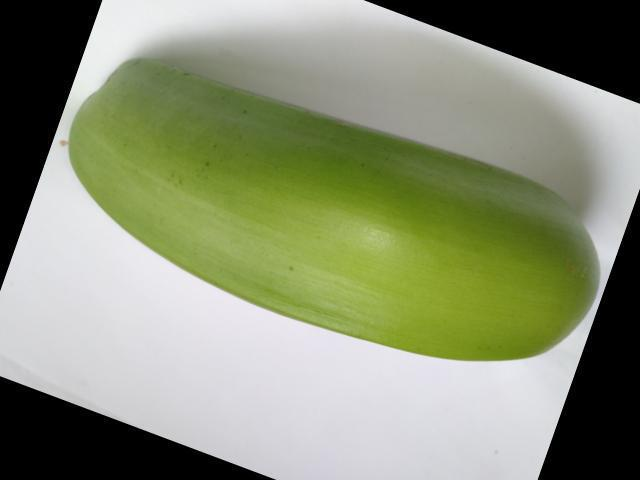freshunripe: (62, 45, 619, 389)
